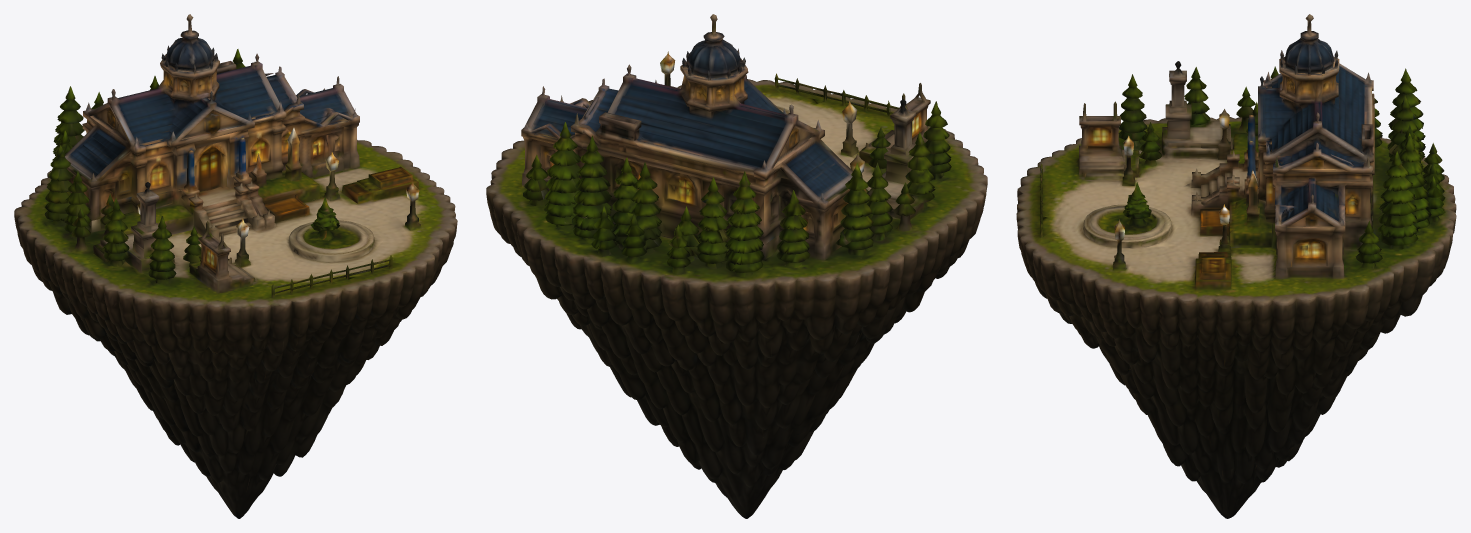
The model's file is career.glb.
The picture shows the model from 3 angles, left to right: view 1: azimuth 30°, elevation 25°; view 2: azimuth 150°, elevation 25°; view 3: azimuth 270°, elevation 25°; orthographic projection. The views are drawn at different scales.
Parts seen in each view (by area): view 1: node_0; view 2: node_0; view 3: node_0.
Part boxes in pixels (left/top/right/bottom): node_0: left=14, top=14, right=457, bottom=518; node_0: left=486, top=14, right=987, bottom=518; node_0: left=1016, top=14, right=1456, bottom=518.
Bounding box in the file's own units: 0.927 × 1.16 × 0.9232.
Materials: 1 (1 with a texture image).
